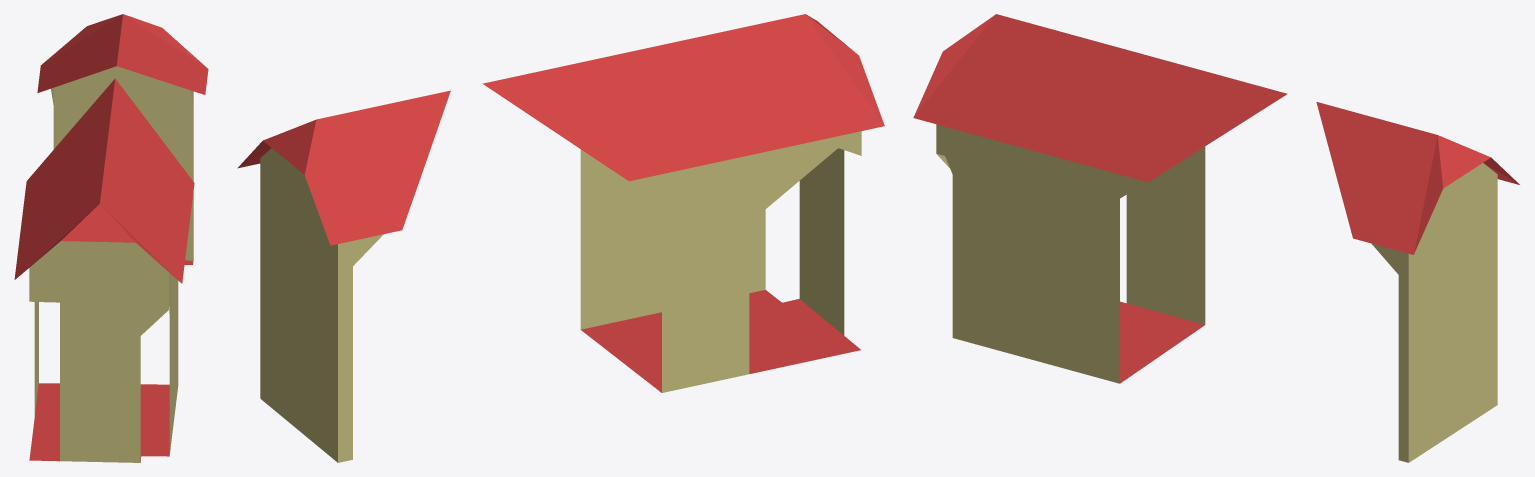
3 renders of one model, left to right at view 1: azimuth 30°, elevation 25°; view 2: azimuth 150°, elevation 25°; view 3: azimuth 270°, elevation 25°, orthographic. The views are drawn at different scales.
Parts seen in each view (by area): view 1: group_5, group_3, group_6, group_4; view 2: group_5, group_3, group_6, group_4; view 3: group_5, group_3, group_6, group_4.
Part boxes in pixels (x1,y1,x2,y2): group_5: [29, 66, 193, 462]; group_3: [14, 14, 208, 283]; group_6: [29, 260, 192, 461]; group_4: [15, 63, 207, 277]; group_5: [260, 131, 861, 462]; group_3: [237, 14, 884, 245]; group_6: [581, 290, 860, 392]; group_4: [239, 111, 881, 245]; group_5: [936, 124, 1497, 462]; group_3: [913, 14, 1519, 254]; group_6: [1120, 301, 1204, 383]; group_4: [946, 106, 1513, 253].
Bounding box in the file's own units: 22.06 × 27.38 × 14.66.
